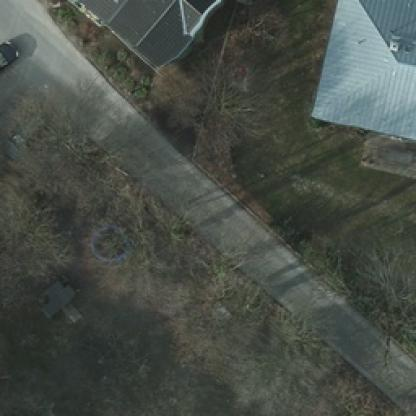car: (0, 38, 18, 72)
